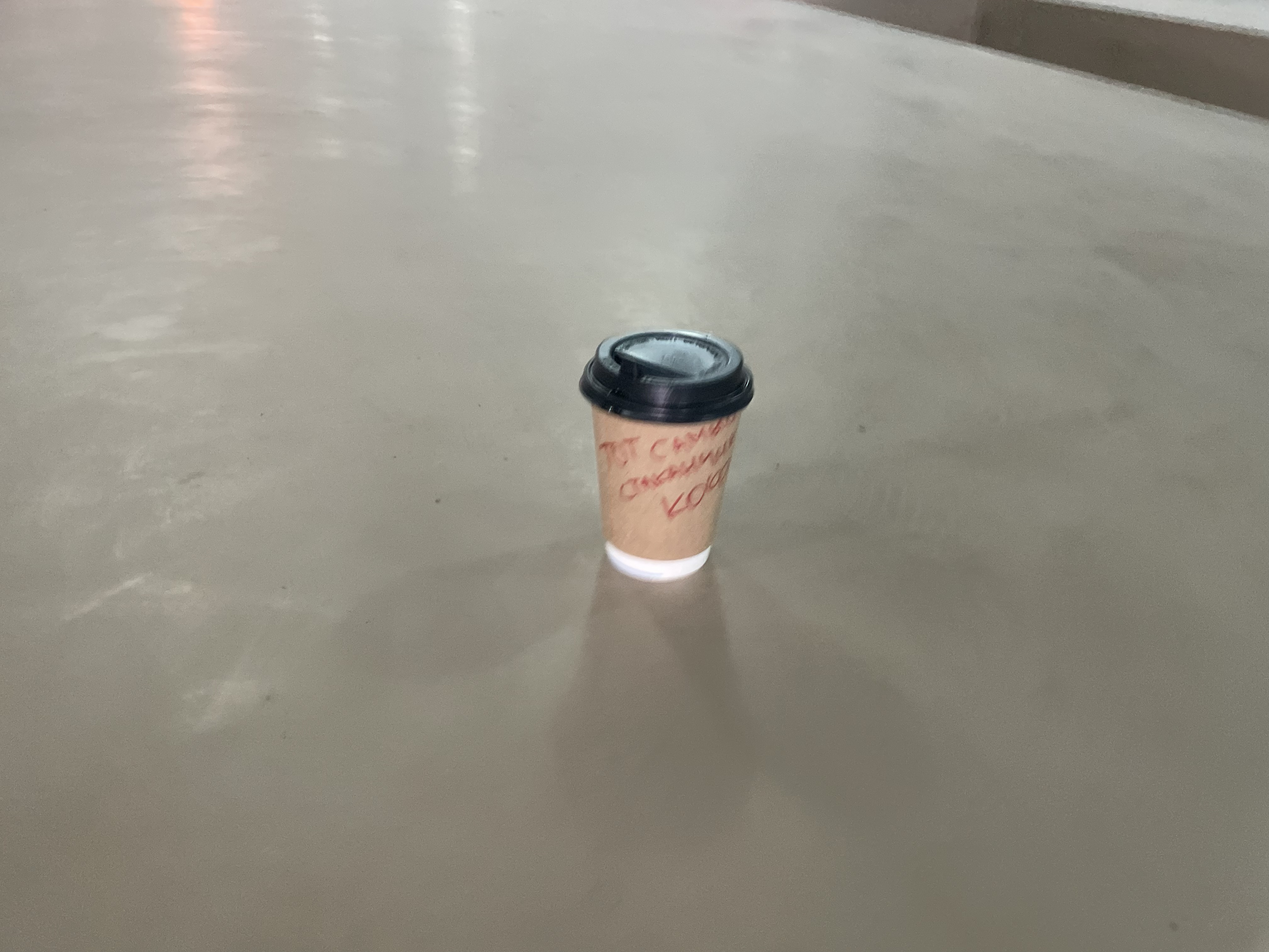cup: (577, 327, 755, 584)
